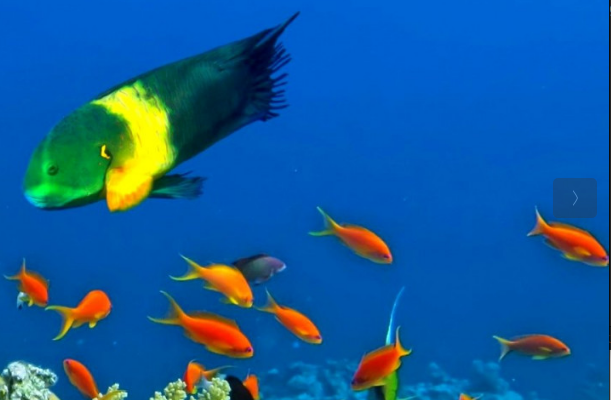fishLarge: (21, 40, 291, 213)
fishSmall: (147, 290, 255, 359), (308, 205, 395, 265), (526, 205, 607, 268), (170, 254, 253, 307), (350, 324, 413, 391), (257, 286, 322, 346), (44, 289, 113, 343), (492, 331, 571, 362), (2, 258, 50, 309), (62, 358, 121, 399)
